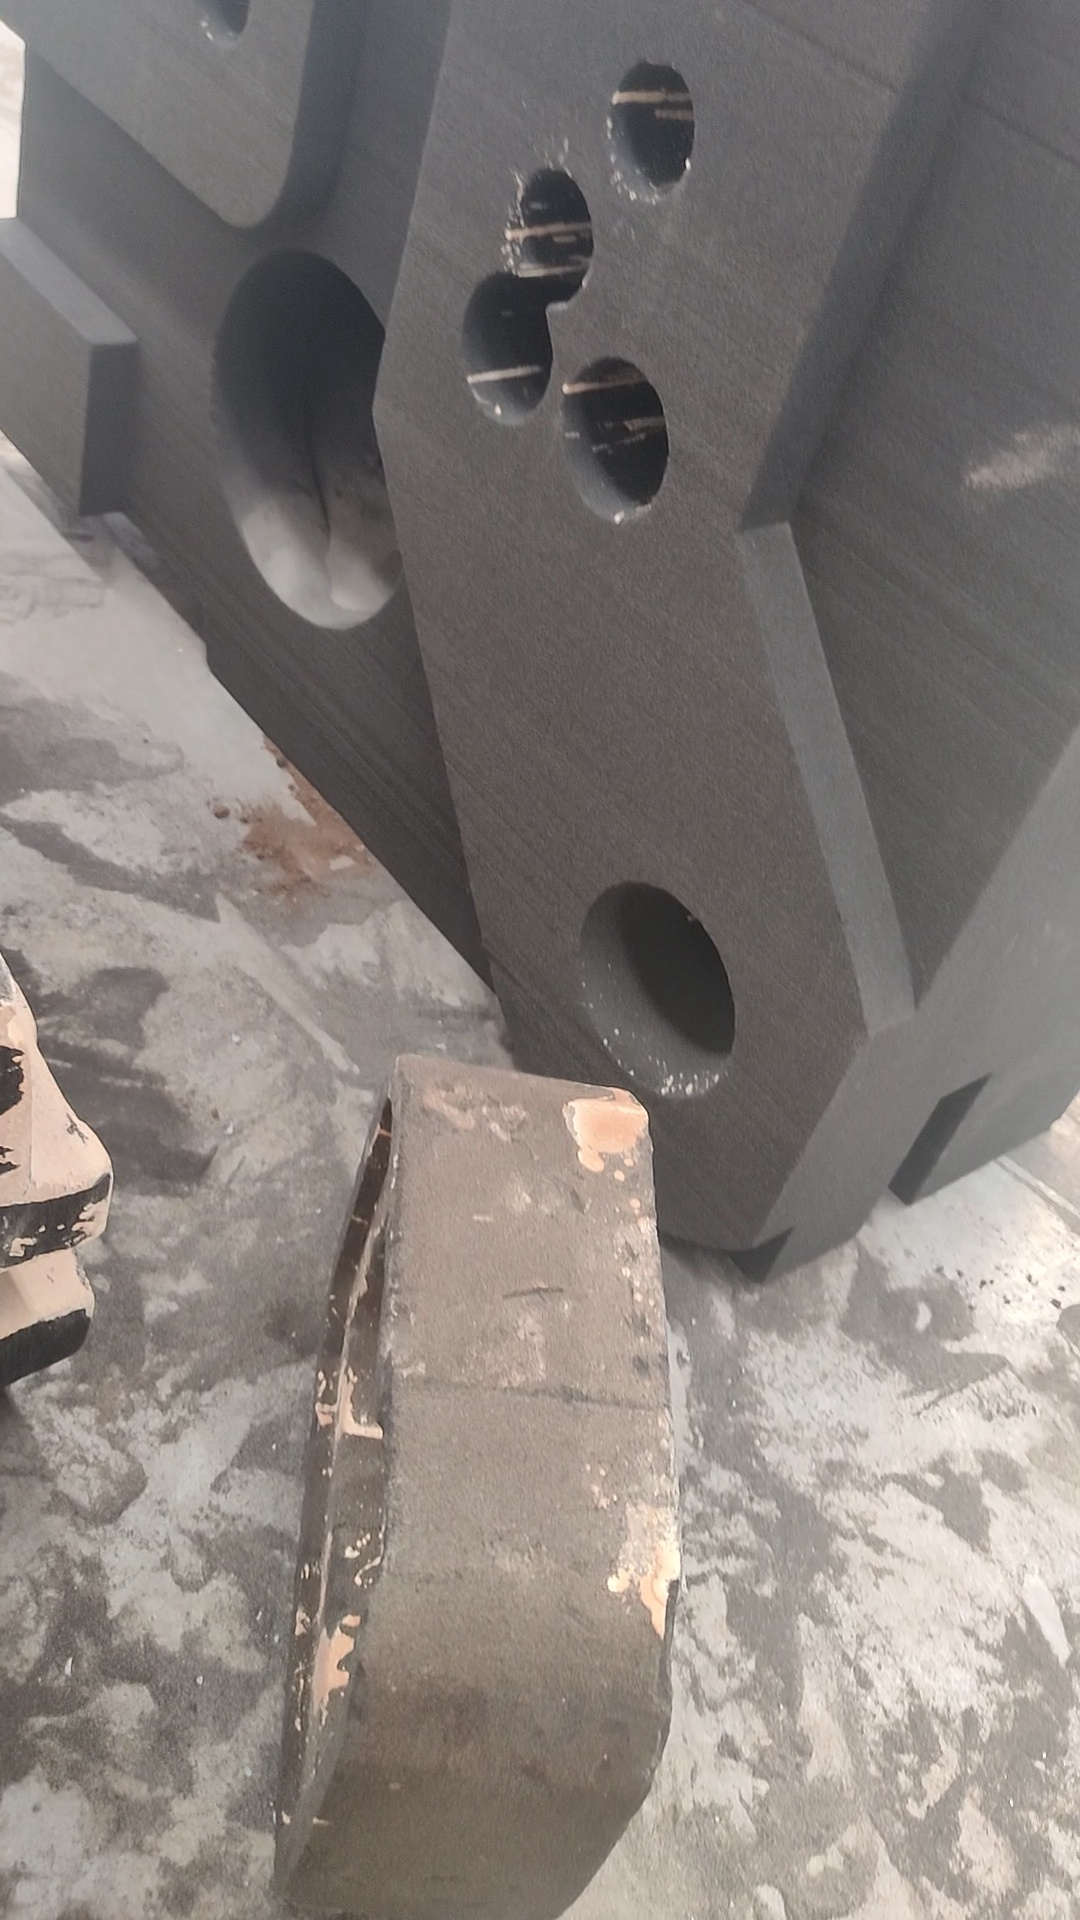pouring hole: (582, 880, 736, 1093)
